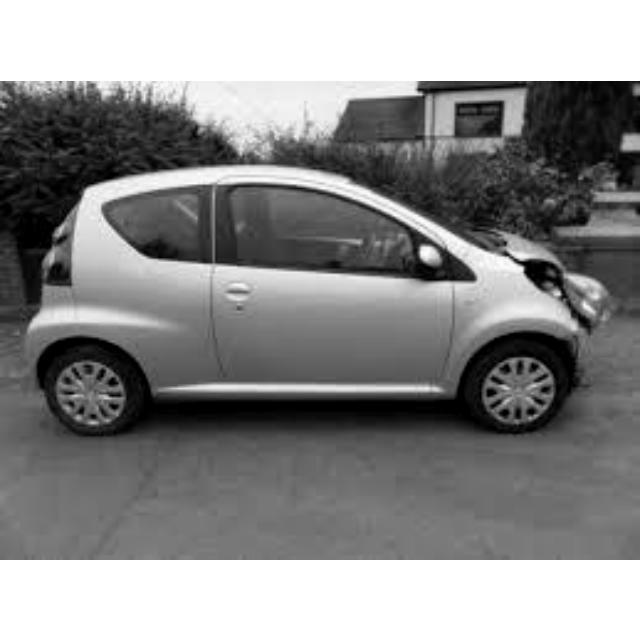bonnet-dent: (502, 224, 620, 295)
